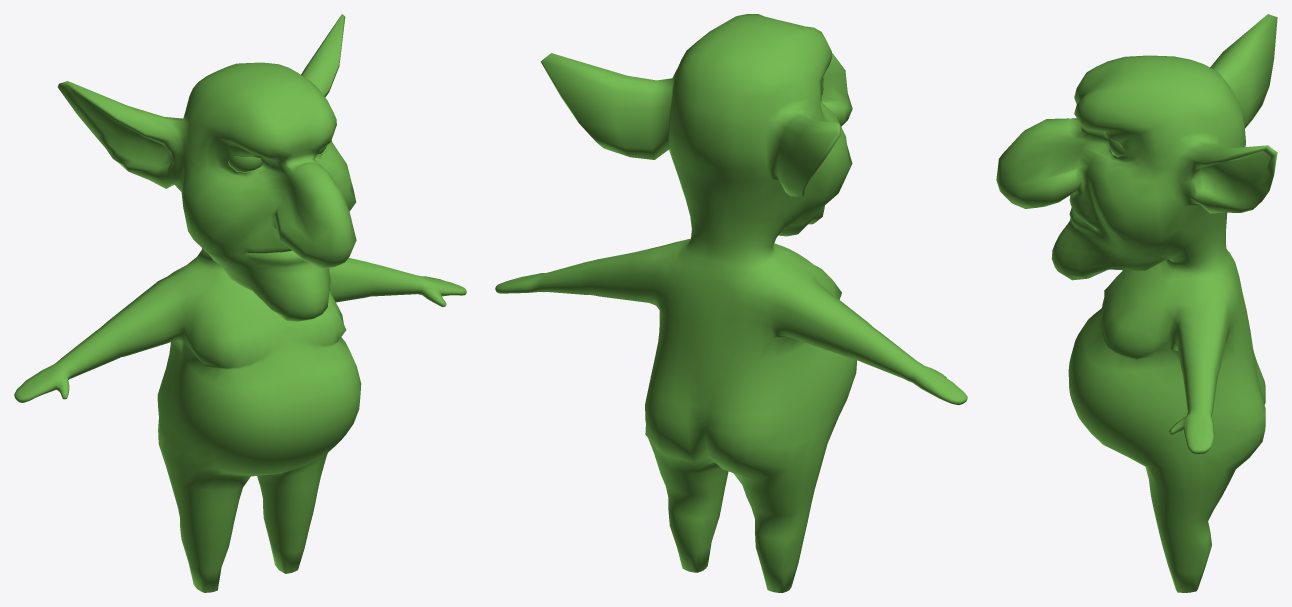
The model's file is goblinChef-noRig-5.fbx.
The picture shows the model from 3 angles, left to right: view 1: azimuth 30°, elevation 25°; view 2: azimuth 150°, elevation 25°; view 3: azimuth 270°, elevation 25°; orthographic projection. The views are drawn at different scales.
Parts seen in each view (by area): view 1: goblin-naked; view 2: goblin-naked; view 3: goblin-naked.
Part boxes in pixels (left/top/right/bottom): goblin-naked: left=14, top=14, right=466, bottom=592; goblin-naked: left=495, top=14, right=967, bottom=592; goblin-naked: left=996, top=14, right=1277, bottom=592.
Size of the model in its own units: 113 by 124 by 62.5.
